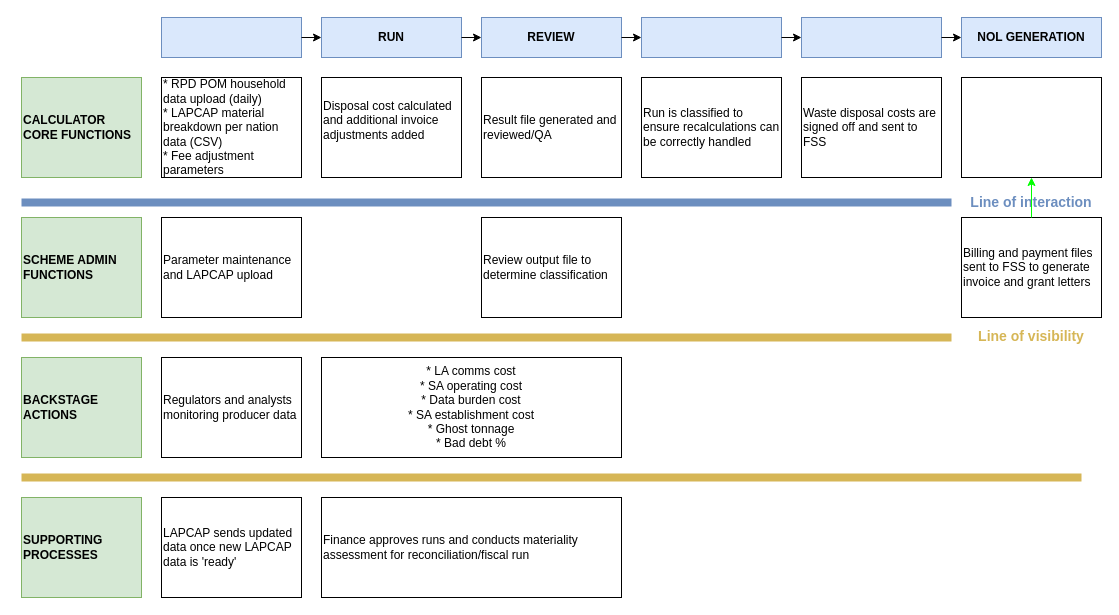
Image size: 1119x615. Some labels were removed from this diagram. The shapes that lost their labels are listed below. From the top down, each one's box as (x1, y1, x2, y2) in pixels, then its label:
(160, 16, 302, 58): DATA UPLOAD
(640, 16, 782, 58): CLASSIFICATION
(800, 16, 942, 58): SIGN OFF
(960, 76, 1102, 178): Producer invoices accessed via RPD interface
